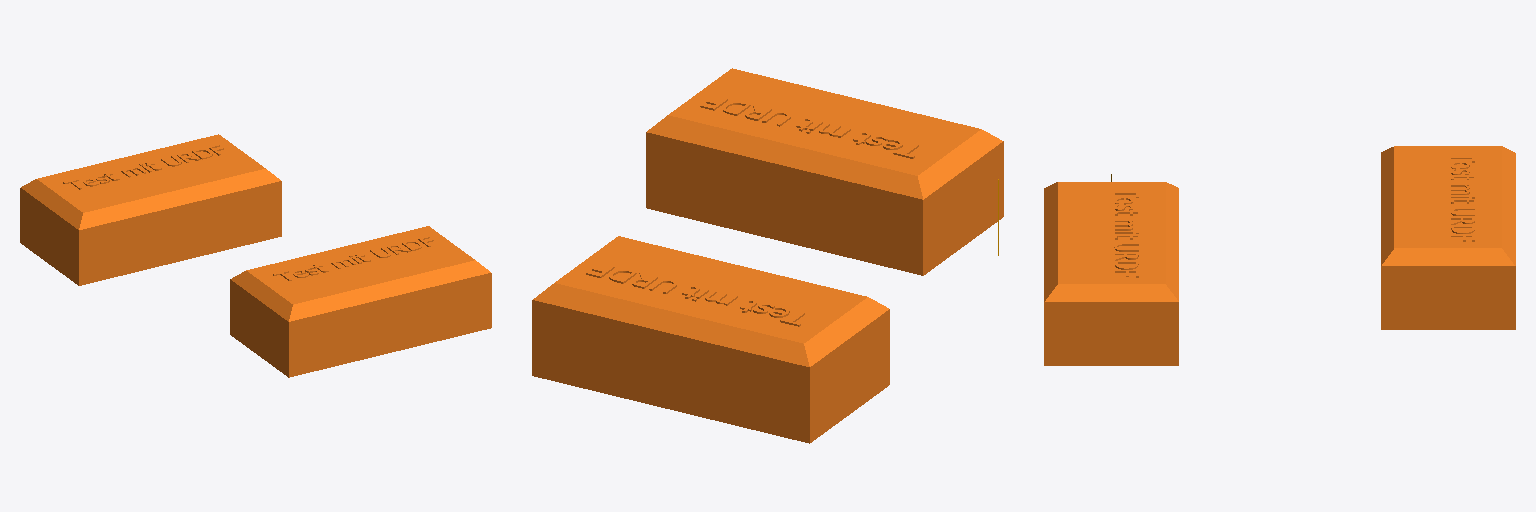
The robot description file, URDF, robot "GoldbarrenGroup":
<?xml version="1.0"?>
<!--Exported at 11.02.2026 15:20:35  -->
<!--by BIBA-->
<robot name="GoldbarrenGroup">
<material name="Metall - 1600F (heiß)">
    <color rgba="1 0.561 0.184 1" />
  </material>
  <link name="base_link">
    <visual>
    <origin xyz="0 0 21" rpy="0 0 0" />
      <geometry>
        <cylinder length="42" radius="0.2"/>
      </geometry>
    </visual>
  </link>
 
 <link name="GoldbarrenPart1:1">
    <visual>
     <origin xyz="50 0 0" rpy="0 0 0" />
      <geometry>  
            <mesh filename="../12345/GoldbarrenPart1.stl"/>
      </geometry> 
         <material name="Metall - 1600F (heiß)" />
    </visual>
  </link>

 <link name="GoldbarrenPart1:2">
    <visual>
     <origin xyz="0 0 0" rpy="0 0 0" />
      <geometry>  
            <mesh filename="../12345/GoldbarrenPart1_Ascii.stl"/>
      </geometry> 
         <material name="Metall - 1600F (heiß)" />
    </visual>
  </link>

  <joint name="base_to_right_leg" type="fixed">
    <parent link="base_link"/>
    <child link="GoldbarrenPart1:1"/>
    <origin xyz="50 0 0.25"/>
  </joint>

 <joint type="fixed" name="Starr:1">
    <parent link="GoldbarrenPart1:1"/>
    <child link="GoldbarrenPart1:2"/>
    <origin xyz="0 200 0" rpy="0 0 0"/> 
  </joint>
 
</robot>

--- What the picture shows (computed from the rendered views, not written in the file) ---
3 views of the same robot in one strip: view 1: azimuth 30°, elevation 25°; view 2: azimuth 150°, elevation 25°; view 3: azimuth 270°, elevation 25° (orthographic).
Robot: GoldbarrenGroup — 3 links, 2 joints (2 fixed); root link base_link; default pose: every joint at zero.
Links seen in each view (by area): view 1: GoldbarrenPart1:1, GoldbarrenPart1:2; view 2: GoldbarrenPart1:2, GoldbarrenPart1:1; view 3: GoldbarrenPart1:1, GoldbarrenPart1:2.
Boxes of the visible links, bbox=[...] form: GoldbarrenPart1:1: bbox=[230, 226, 491, 377]; GoldbarrenPart1:2: bbox=[20, 134, 281, 285]; GoldbarrenPart1:2: bbox=[532, 236, 889, 443]; GoldbarrenPart1:1: bbox=[646, 68, 1003, 275]; GoldbarrenPart1:1: bbox=[1044, 182, 1178, 365]; GoldbarrenPart1:2: bbox=[1381, 146, 1515, 329].
Bounding box of the posed robot: 210 × 280 × 51.25 m (x, y, z).
Meshes: 2 distinct files referenced, 2 mesh visuals loaded (1 binary STL, 1 ASCII STL).
